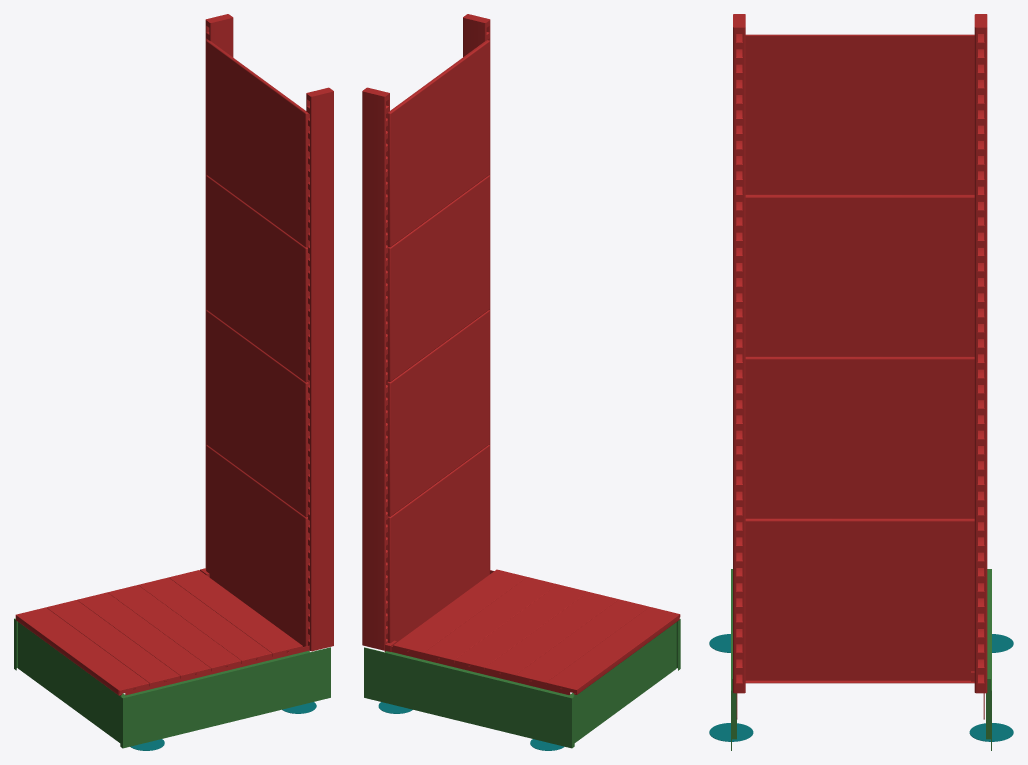
File: SM_Shelves_Base_03.fbx
The picture shows the model from 3 angles, left to right: view 1: azimuth 30°, elevation 25°; view 2: azimuth 150°, elevation 25°; view 3: azimuth 270°, elevation 25°; orthographic projection. The views are drawn at different scales.
Visible parts, largest first — view 1: SM_Shelves_Base_03; view 2: SM_Shelves_Base_03; view 3: SM_Shelves_Base_03.
Part boxes in pixels (x1,y1,x2,y2): SM_Shelves_Base_03: [14, 14, 333, 750]; SM_Shelves_Base_03: [362, 14, 680, 750]; SM_Shelves_Base_03: [709, 14, 1013, 750].
Size of the model in its own units: 73.77 by 200 by 75.77.
